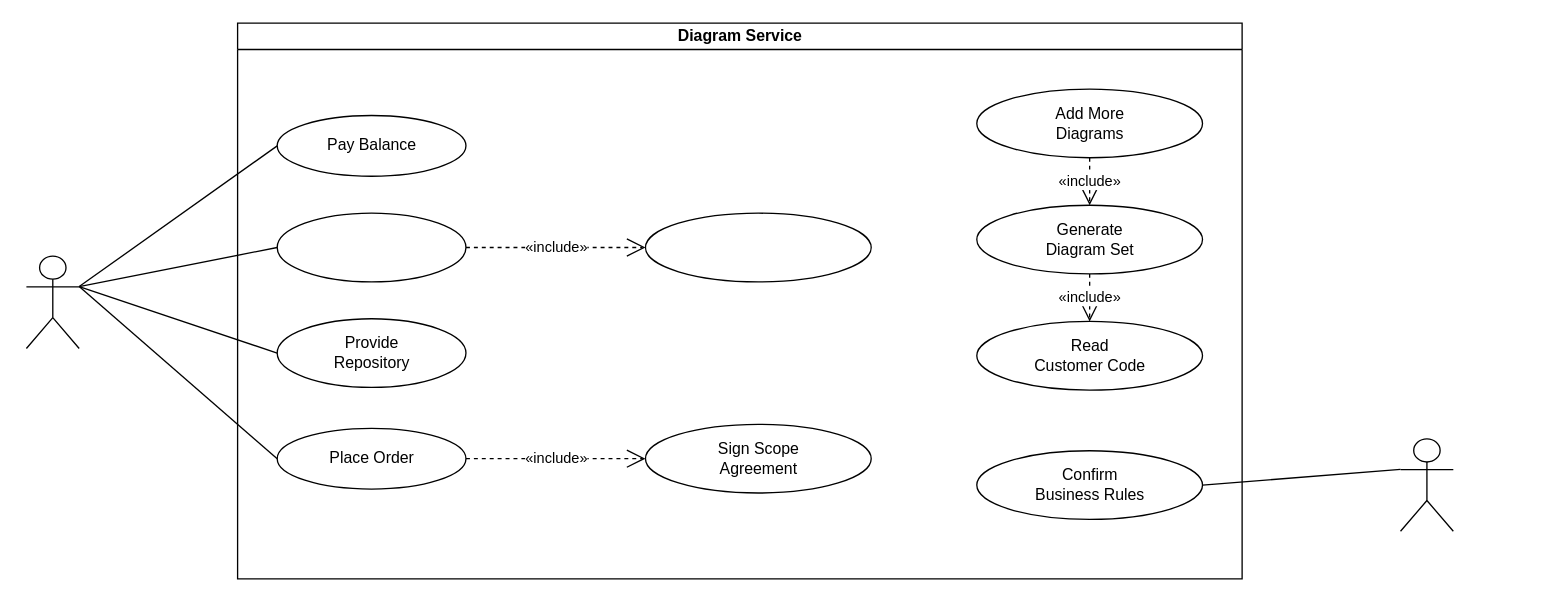
This 1551x602 diagram has some shape labels left out. The shapes that lost their labels are listed below. From the top down, each one's centre as x and y in pixels, then its label:
(x=371, y=247): Accept Delivery
(x=757, y=247): Export Editable Files
(x=52, y=301): Student
(x=1426, y=484): Domain Reviewer
